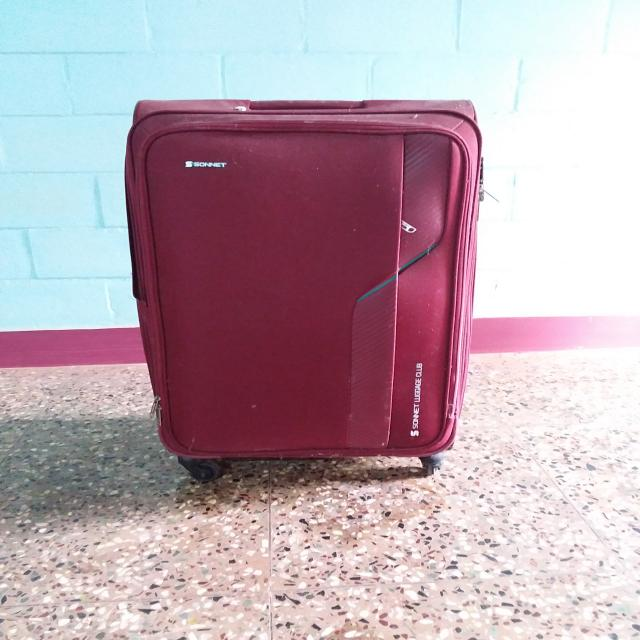luggage: (124, 100, 486, 482)
